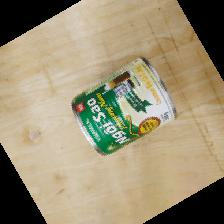NSPN_Lon: (71, 57, 178, 158)
